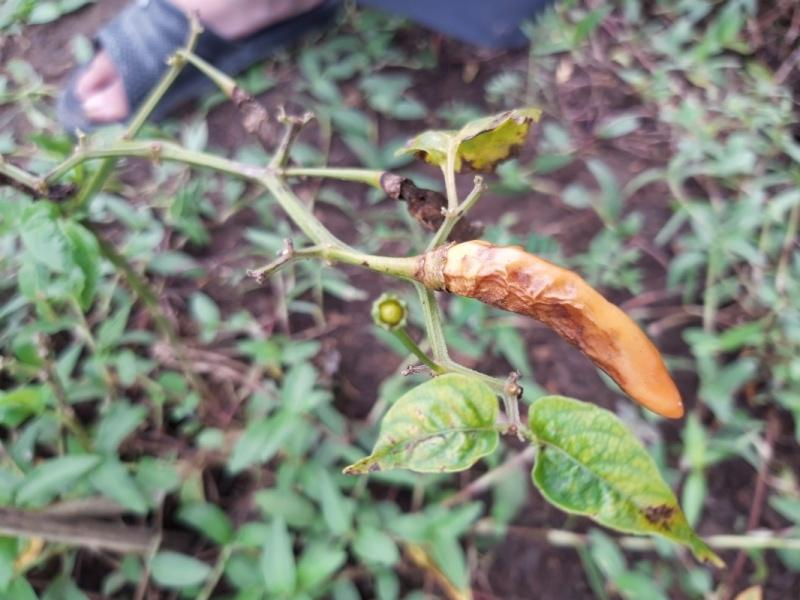antraknosa: (444, 241, 684, 418), (394, 178, 484, 238)
